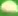white: (0, 0, 18, 16)
